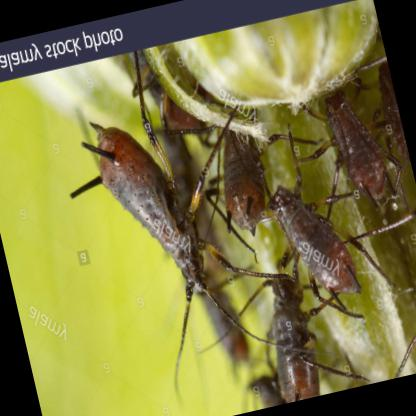uroleucon compositae: (70, 120, 253, 364)
